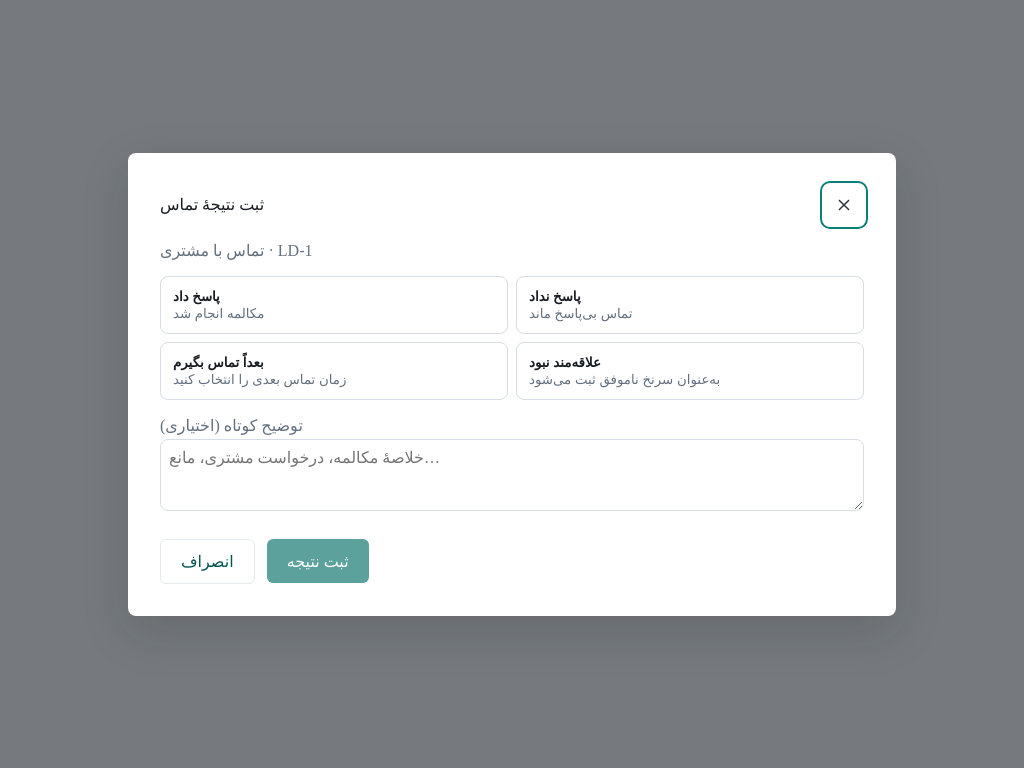
Test: CallOutcomeModal › shows the hand-off hint when "علاقه‌مند نبود" is selected
The width and height of the screenshot is (1024, 768).
Click the radio button labelled "علاقه‌مند نبود به‌عنوان سرنخ ناموفق ثبت می‌شود" at (690,370), box [516, 342, 864, 400]
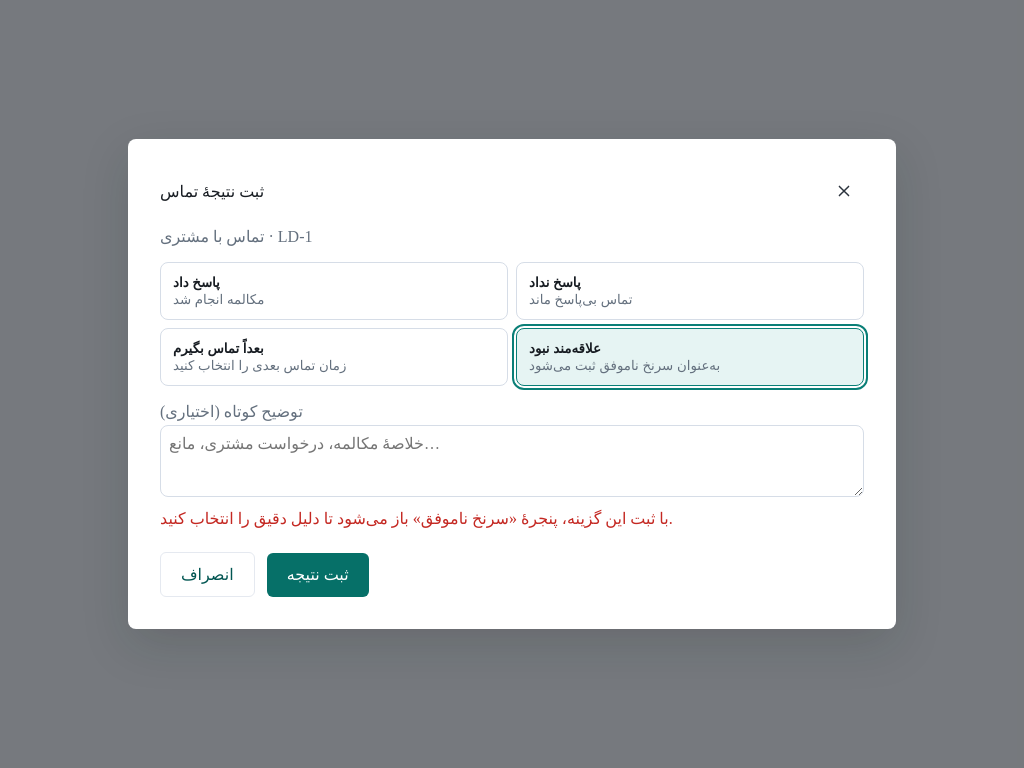
Result: the text "پنجرهٔ «سرنخ ناموفق» باز می‌شود" is shown at [160, 510, 673, 527]
